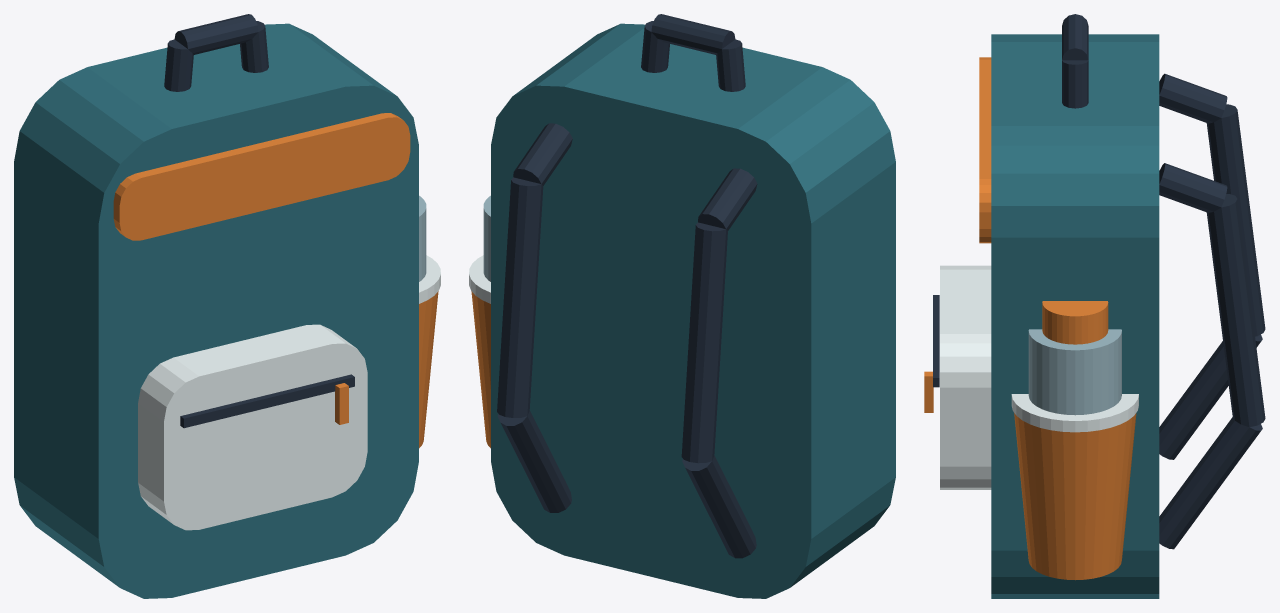
The model's file is backpack.glb.
3 views of the same model, side by side, from view 1: azimuth 30°, elevation 25°; view 2: azimuth 150°, elevation 25°; view 3: azimuth 270°, elevation 25° (orthographic).
Parts seen in each view (by area): view 1: fabric shell, front pocket, lid binding, zip, carry loop1, side pocket, carry loop0, carry loop2, pocket rim, bottle neck, zip pull; view 2: fabric shell, strap -0.341, strap 0.341, strap -0.342, strap 0.342, carry loop1, strap -0.340, strap 0.340, side pocket, carry loop0, carry loop2, pocket rim (+1 smaller); view 3: fabric shell, side pocket, front pocket, strap 0.341, bottle neck, strap 0.342, strap -0.341, strap -0.342, cap, pocket rim, lid binding, strap -0.340 (+4 smaller).
Part boxes in pixels (x1=…): fabric shell: x1=14, y1=23, x2=418, y2=598; front pocket: x1=138, y1=324, x2=367, y2=530; lid binding: x1=113, y1=113, x2=410, y2=240; zip: x1=180, y1=374, x2=354, y2=428; carry loop1: x1=174, y1=14, x2=258, y2=54; side pocket: x1=419, y1=291, x2=438, y2=448; carry loop0: x1=164, y1=39, x2=193, y2=91; carry loop2: x1=240, y1=21, x2=268, y2=72; pocket rim: x1=419, y1=255, x2=440, y2=303; bottle neck: x1=419, y1=195, x2=426, y2=281; zip pull: x1=335, y1=383, x2=348, y2=424; fabric shell: x1=491, y1=23, x2=895, y2=598; strap -0.341: x1=681, y1=222, x2=727, y2=463; strap 0.341: x1=497, y1=177, x2=543, y2=417; strap -0.342: x1=682, y1=455, x2=756, y2=558; strap 0.342: x1=497, y1=410, x2=571, y2=512; carry loop1: x1=651, y1=14, x2=735, y2=54; strap -0.340: x1=698, y1=168, x2=757, y2=230; strap 0.340: x1=513, y1=123, x2=572, y2=185; side pocket: x1=471, y1=291, x2=490, y2=448; carry loop0: x1=716, y1=39, x2=745, y2=91; carry loop2: x1=641, y1=21, x2=669, y2=72; pocket rim: x1=469, y1=255, x2=490, y2=303; fabric shell: x1=991, y1=34, x2=1159, y2=598; side pocket: x1=1014, y1=413, x2=1136, y2=580; front pocket: x1=940, y1=265, x2=991, y2=489; strap 0.341: x1=1206, y1=194, x2=1265, y2=427; bottle neck: x1=1028, y1=329, x2=1121, y2=415; strap 0.342: x1=1159, y1=417, x2=1262, y2=549; strap -0.341: x1=1206, y1=104, x2=1265, y2=336; strap -0.342: x1=1159, y1=334, x2=1262, y2=459; cap: x1=1042, y1=301, x2=1108, y2=344; pocket rim: x1=1011, y1=394, x2=1138, y2=432; lid binding: x1=979, y1=57, x2=991, y2=243; strap -0.340: x1=1159, y1=73, x2=1227, y2=123.
Bounding box in the file's own units: 1.38 × 1.84 × 1.1.
